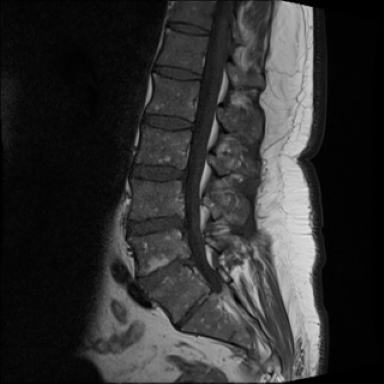Degenerative Disc Disease (DDD): (125, 160, 191, 185)
Lumbar Disc Bulge (LDB): (130, 251, 200, 299), (121, 208, 194, 243)
Normal IVD: (144, 60, 205, 86), (134, 112, 197, 135), (163, 18, 215, 40)
Spinal Stenosis (SS): (182, 244, 206, 277), (175, 204, 194, 239)
